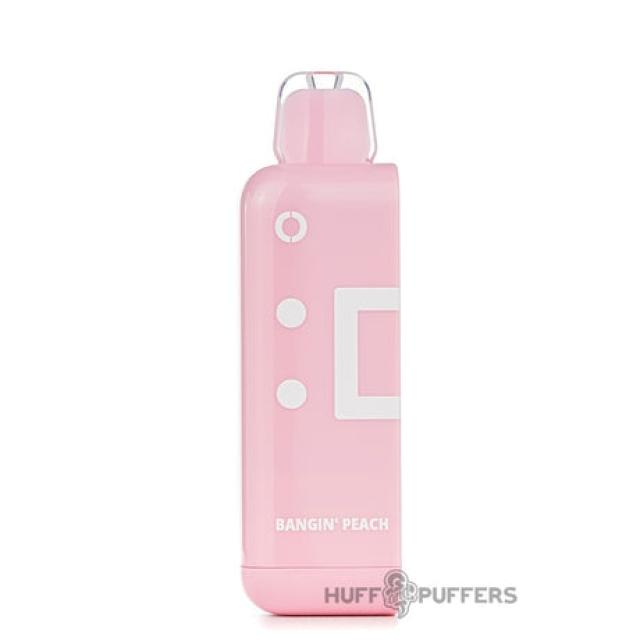Vape-images: (238, 70, 403, 618)
